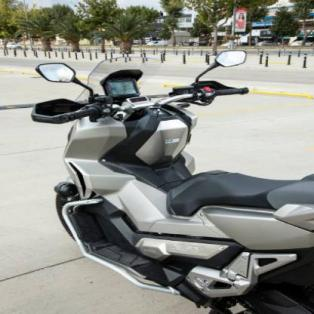Motocicleta: (28, 42, 313, 313)
